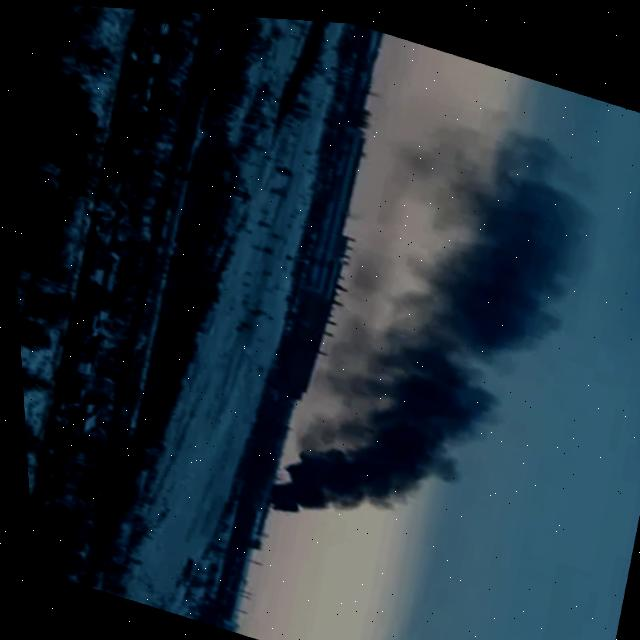Smoke: (244, 86, 615, 582)
